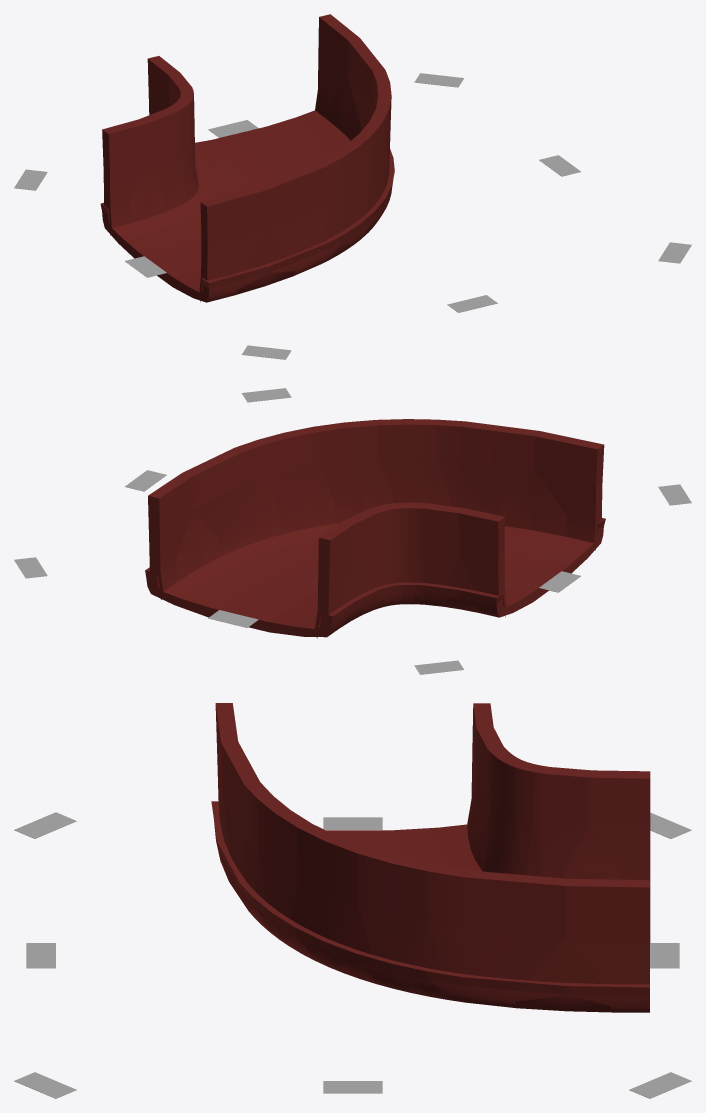
File: FlatConnectorLeft90.fbx
3 renders of one model, top to bottom at view 1: azimuth 30°, elevation 25°; view 2: azimuth 150°, elevation 25°; view 3: azimuth 270°, elevation 25°, orthographic. The views are drawn at different scales.
Parts seen in each view (by area): view 1: pPipe3, pPipe4; view 2: pPipe3, pPipe4, pasted__pCube39, pasted__pCube41, pasted__pCube7, pasted__pCube3, pasted__pCube2, pasted__pCube40, pasted__pCube42; view 3: pPipe3, pPipe4, pasted__pCube39, pasted__pCube42, pasted__pCube40, pasted__pCube7, pasted__pCube6, pasted__pCube3, pasted__pCube2.
Part boxes in pixels (<box>): pPipe3: <box>102,14,391,301</box>; pPipe4: <box>100,110,394,302</box>; pPipe3: <box>148,419,604,638</box>; pPipe4: <box>145,518,605,637</box>; pasted__pCube39: <box>242,388,291,402</box>; pasted__pCube41: <box>414,660,463,674</box>; pasted__pCube7: <box>208,610,258,627</box>; pasted__pCube3: <box>539,571,580,592</box>; pasted__pCube2: <box>125,470,166,491</box>; pasted__pCube40: <box>658,484,691,505</box>; pasted__pCube42: <box>14,557,47,578</box>; pPipe3: <box>215,703,650,984</box>; pPipe4: <box>211,801,650,1012</box>; pasted__pCube39: <box>14,1072,76,1098</box>; pasted__pCube42: <box>629,1072,691,1098</box>; pasted__pCube40: <box>14,812,76,838</box>; pasted__pCube7: <box>650,943,679,968</box>; pasted__pCube6: <box>26,943,55,968</box>; pasted__pCube3: <box>323,817,382,829</box>; pasted__pCube2: <box>323,1081,382,1093</box>.
Bounding box in the file's own units: 22.82 × 5.18 × 22.82.
